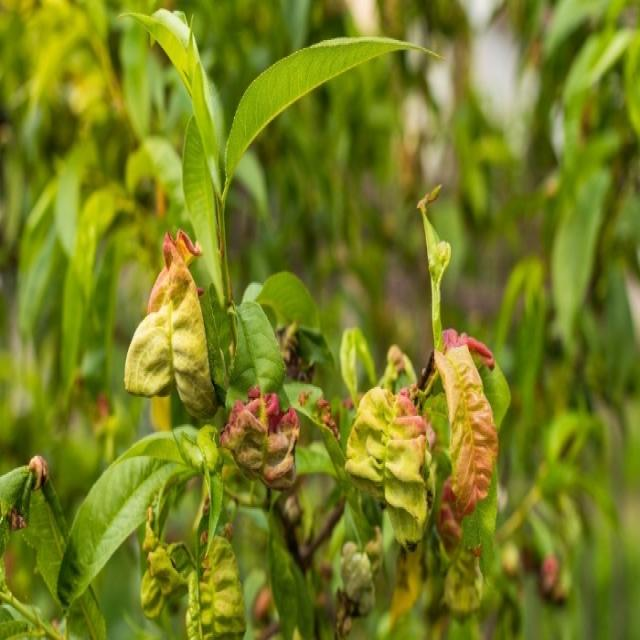Elderberry_rust: (218, 382, 300, 492)
peach_leaf_curl: (432, 334, 499, 518)
